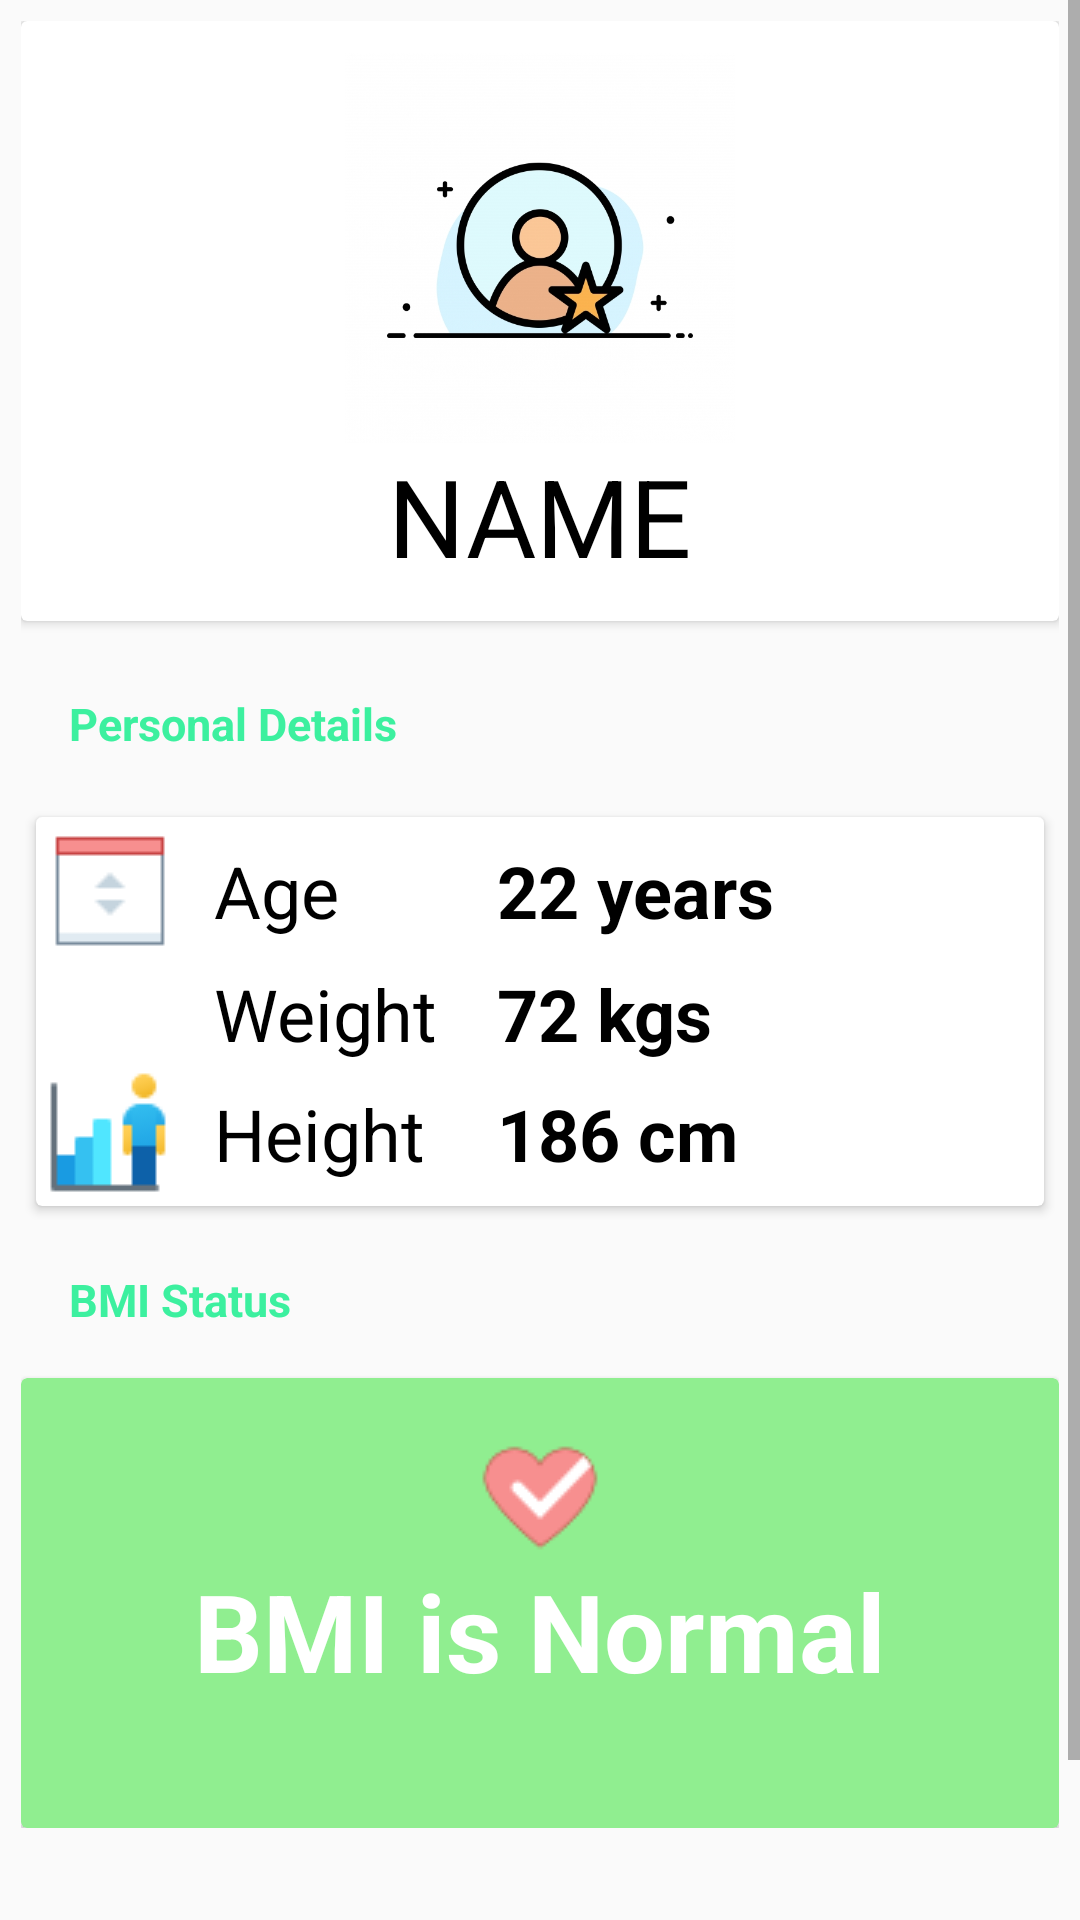

Locate icon controls on the screen. Image size 1080x1920, boxes as (x1, y1, x2, y2).
person: (387, 162, 693, 338)
